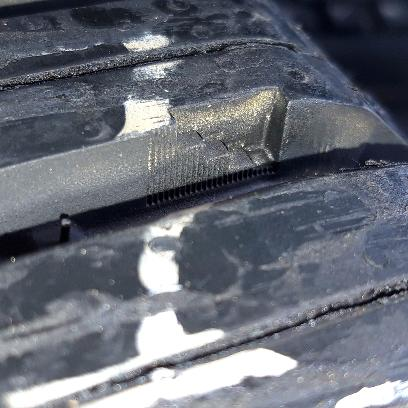temoin:100: (145, 85, 293, 207)
